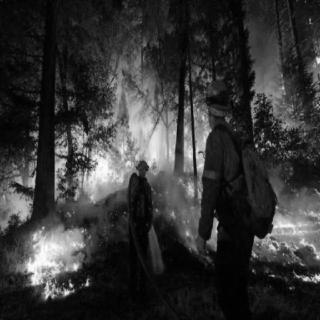Fire: (6, 70, 316, 304)
